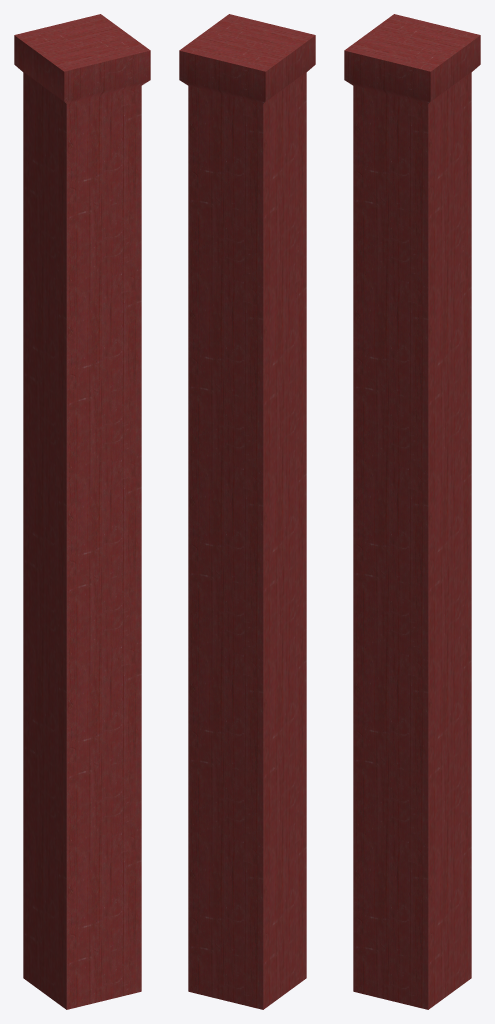
File: SM_P_Wood_2.fbx
3 views of the same model, side by side, from view 1: azimuth 30°, elevation 25°; view 2: azimuth 150°, elevation 25°; view 3: azimuth 330°, elevation 25° (orthographic).
Visible parts, largest first — view 1: SM_P_Wood_2; view 2: SM_P_Wood_2; view 3: SM_P_Wood_2.
Boxes of the visible parts, x1=… form: SM_P_Wood_2: x1=14, y1=14, x2=150, y2=1009; SM_P_Wood_2: x1=179, y1=14, x2=315, y2=1009; SM_P_Wood_2: x1=344, y1=14, x2=480, y2=1009.
Size of the model in its own units: 37.07 by 37.07 by 385.
1 material, 1 textured.
